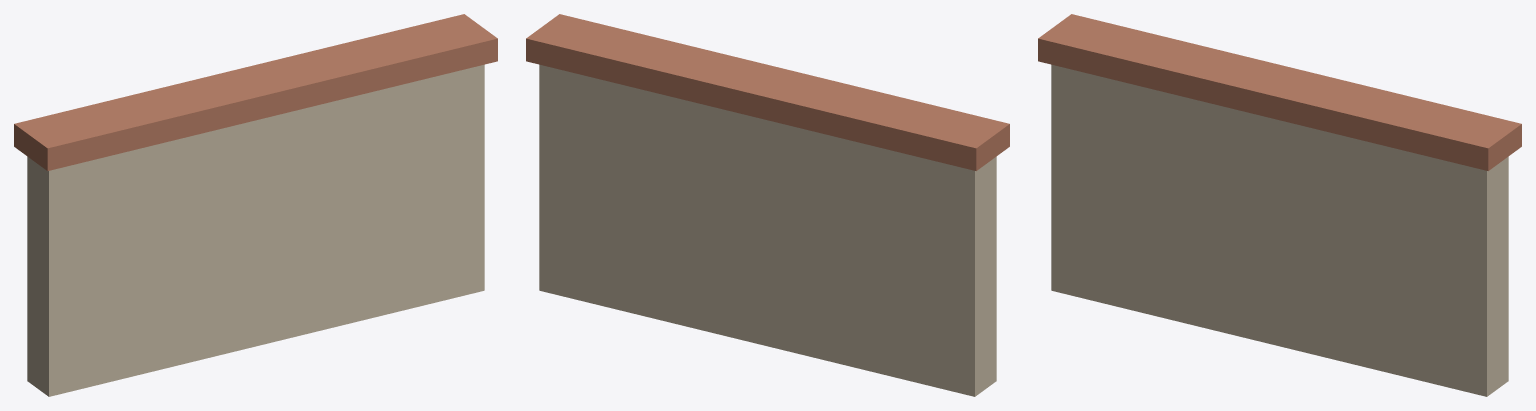
The model's file is wall_boundary.glb.
The picture shows the model from 3 angles, left to right: view 1: azimuth 30°, elevation 25°; view 2: azimuth 150°, elevation 25°; view 3: azimuth 330°, elevation 25°; orthographic projection.
Visible parts, largest first — view 1: part_0, part_1; view 2: part_0, part_1; view 3: part_0, part_1.
Boxes of the visible parts, box(x1,y1,x2,y2) form: part_0: box(27, 64, 484, 396); part_1: box(14, 14, 497, 170); part_0: box(539, 64, 996, 396); part_1: box(526, 14, 1009, 170); part_0: box(1051, 64, 1508, 396); part_1: box(1038, 14, 1521, 170).
Size of the model in its own units: 3.1 by 1.67 by 0.4.
